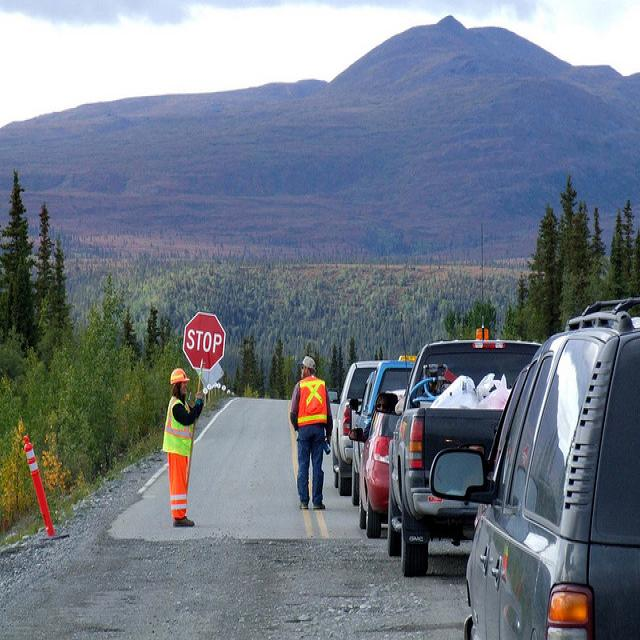Vehicle: (430, 296, 640, 628), (387, 329, 543, 578), (352, 357, 417, 504), (357, 385, 405, 541), (333, 361, 382, 498)
